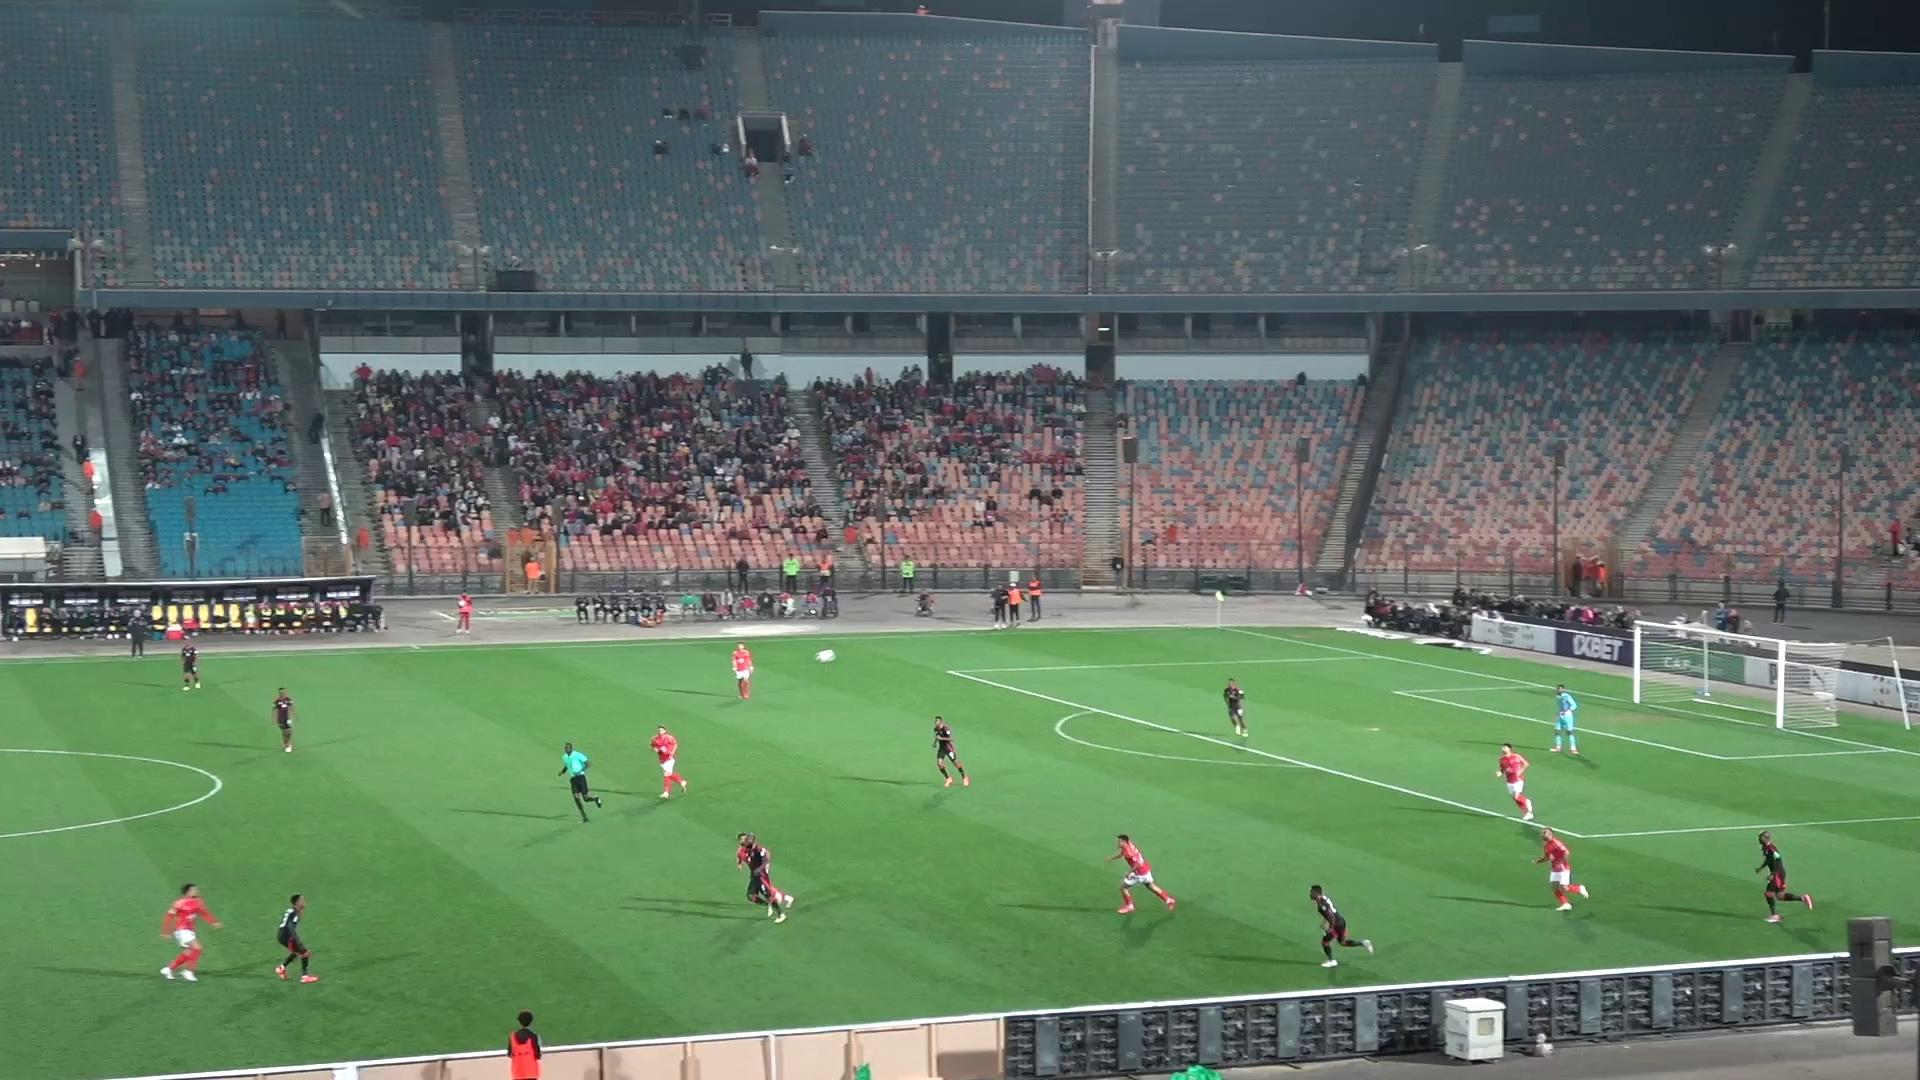Ball: (814, 645, 837, 665)
GK2: (1549, 684, 1578, 756)
Refree: (558, 742, 600, 820)
Team1: (161, 884, 219, 981), (1114, 833, 1176, 913), (1534, 828, 1588, 910), (1495, 744, 1534, 822), (650, 727, 687, 800), (731, 642, 754, 699)
Team2: (1756, 829, 1815, 922), (1308, 884, 1371, 968), (736, 832, 794, 918), (274, 895, 318, 982), (932, 716, 971, 786), (272, 687, 295, 753), (1221, 679, 1247, 736), (178, 640, 202, 688)
